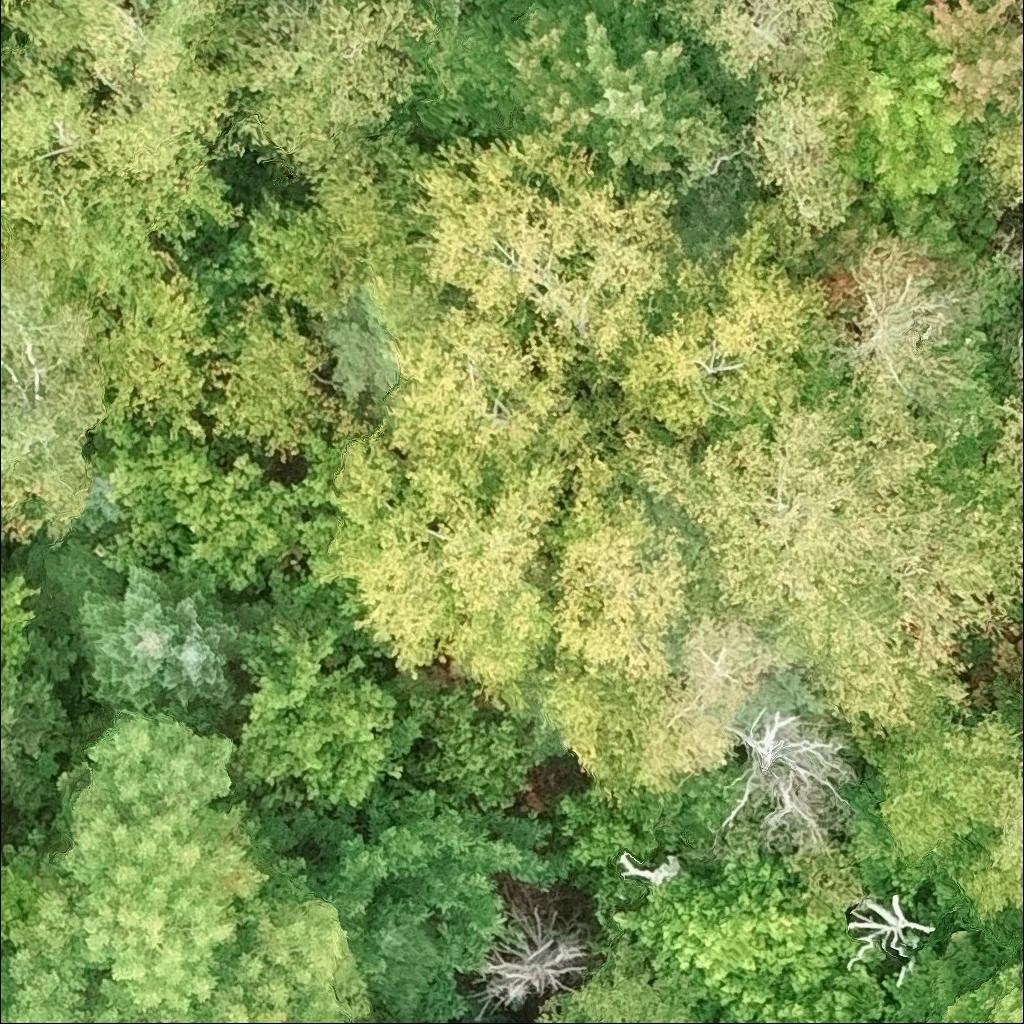crown: (607, 382, 1023, 748), (323, 262, 626, 713), (0, 703, 374, 1023), (534, 435, 782, 789), (0, 0, 237, 297), (408, 123, 685, 364), (575, 200, 844, 435), (311, 782, 575, 967), (593, 841, 861, 1023), (500, 0, 732, 188), (97, 415, 337, 588), (208, 0, 435, 164), (229, 618, 414, 812), (246, 116, 426, 314), (810, 0, 973, 214), (0, 241, 106, 546), (835, 228, 977, 451), (862, 697, 1018, 872), (203, 302, 379, 456), (56, 271, 213, 443), (76, 565, 238, 710), (740, 78, 866, 245), (420, 678, 573, 809), (719, 703, 863, 842), (633, 0, 837, 92), (527, 931, 724, 1023), (466, 878, 589, 1023), (950, 718, 1023, 928), (923, 0, 1023, 133), (0, 663, 77, 796), (544, 791, 657, 876), (837, 892, 937, 972), (755, 962, 886, 1023), (920, 960, 1023, 1023), (974, 95, 1023, 227), (989, 317, 1023, 474), (0, 843, 48, 941), (0, 573, 39, 669), (385, 1011, 417, 1023), (716, 1007, 739, 1023), (1014, 0, 1023, 27)
